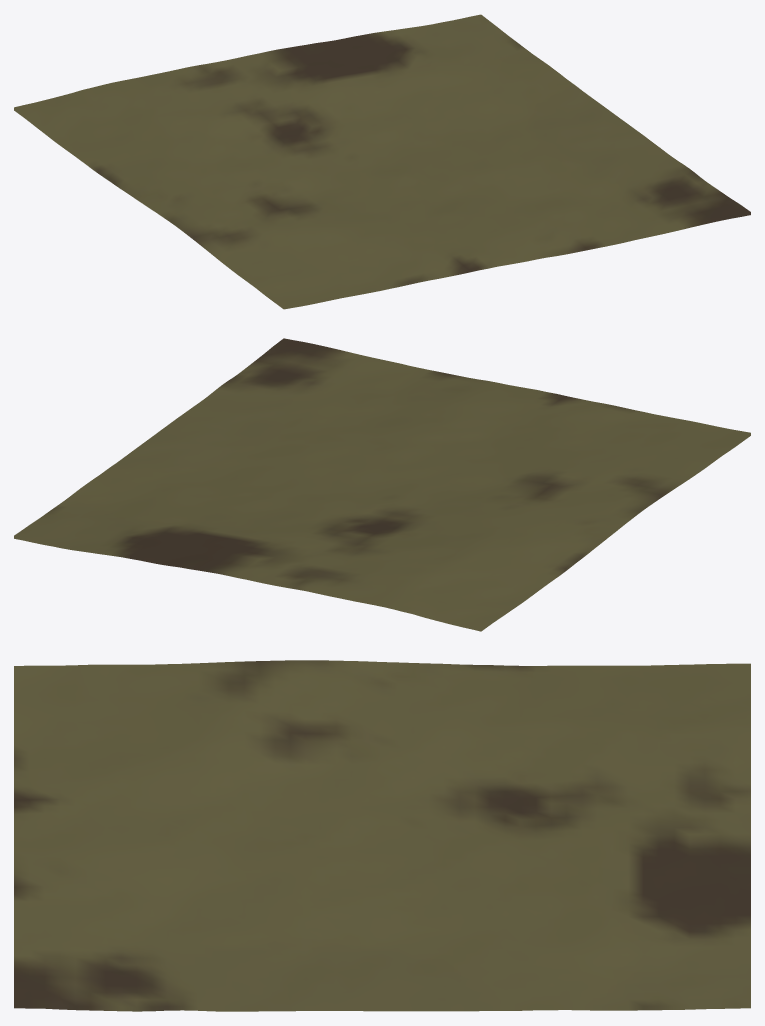
File: land_m_00_05.glb
3 views of the same model, one above another, from view 1: azimuth 30°, elevation 25°; view 2: azimuth 150°, elevation 25°; view 3: azimuth 270°, elevation 25° (orthographic). The views are drawn at different scales.
Parts seen in each view (by area): view 1: land_m_00_05; view 2: land_m_00_05; view 3: land_m_00_05.
Boxes of the visible parts, bbox=[...] form: land_m_00_05: bbox=[14, 14, 750, 309]; land_m_00_05: bbox=[14, 338, 750, 631]; land_m_00_05: bbox=[14, 660, 750, 1011].
Size of the model in its own units: 960 by 57.75 by 960.
